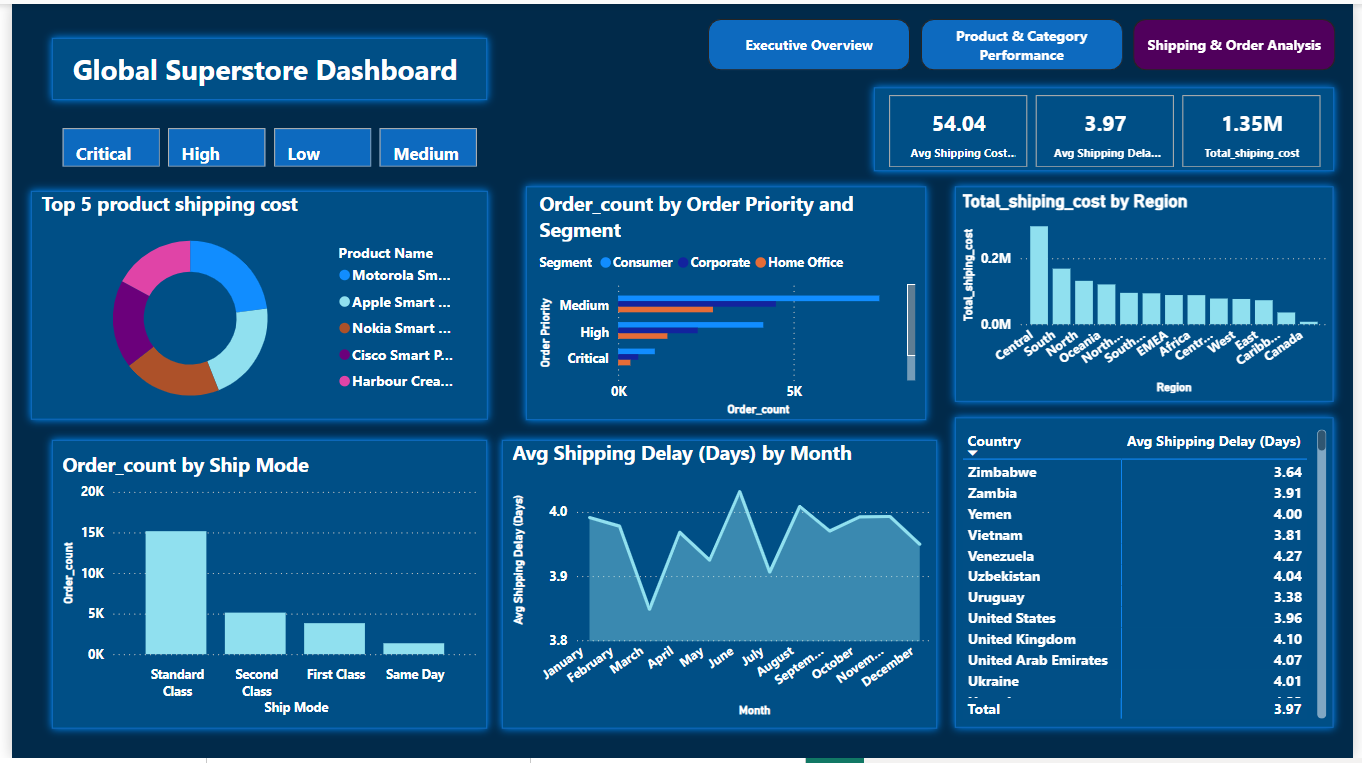

The page's visual inventory and layout, read from the dashboard file:
{"tool":"powerbi","page":{"name":"Shipping & Order Analysis","canvas":[1280,720],"ordinal":2},"visuals":[{"type":"shape","box":[0,160.7,472.4,254.5],"z":0},{"type":"shape","box":[804.8,62,475.6,116.1],"z":1000},{"type":"shape","box":[882.8,155.9,397.7,241.8],"z":2000},{"type":"shape","box":[472.4,155.9,418.3,259.3],"z":3000},{"type":"shape","box":[450.1,397.7,451.7,311.8],"z":4000},{"type":"shape","box":[20.7,397.7,451.7,311.8],"z":5000},{"type":"shape","box":[20.7,14.3,451.7,95.4],"z":6000},{"type":"textbox","box":[52.5,38.2,386.5,52.5],"z":7000},{"type":"clusteredColumnChart","fields":{"Category":["Global_Superstore2.Ship Mode"],"Y":["Global_Superstore2.Order_count"]},"box":[42.9,426.3,407.2,257.7],"z":8000},{"type":"areaChart","fields":{"Category":["Global_Superstore2.Order Date.Variation.Date Hierarchy.Year","Global_Superstore2.Order Date.Variation.Date Hierarchy.Quarter","Global_Superstore2.Order Date.Variation.Date Hierarchy.Month","Global_Superstore2.Order Date.Variation.Date Hierarchy.Day"],"Y":["Global_Superstore2.Avg Shipping Delay (Days)"]},"box":[472.4,415.1,410.4,268.8],"z":9000},{"type":"clusteredBarChart","fields":{"Category":["Global_Superstore2.Order Priority"],"Series":["Global_Superstore2.Segment"],"Y":["Global_Superstore2.Order_count"]},"box":[497.9,178.1,369,219.5],"z":10000},{"type":"shape","box":[882.8,377,397.7,332.4],"z":11000},{"type":"pivotTable","fields":{"Rows":["Global_Superstore2.Country"],"Values":["Global_Superstore2.Avg Shipping Delay (Days)"]},"box":[901.9,400.8,357.9,286.3],"z":12000},{"type":"clusteredColumnChart","fields":{"Category":["Global_Superstore2.Region"],"Y":["Global_Superstore2.Total_shiping_cost"]},"box":[901.9,178.1,357.9,198.8],"z":13000},{"type":"cardVisual","fields":{"Data":["Global_Superstore2.Avg Shipping Cost per Order","Global_Superstore2.Avg Shipping Delay (Days)","Global_Superstore2.Total_shiping_cost"]},"box":[831.9,81.1,423.1,79.5],"z":14000},{"type":"donutChart","title":"Top 5 product shipping cost","fields":{"Category":["Global_Superstore2.Product Name"],"Y":["Global_Superstore2.Total_shiping_cost"]},"box":[22.3,178.1,416.7,219.5],"z":15000},{"type":"advancedSlicerVisual","fields":{"Values":["Global_Superstore2.Order Priority"]},"box":[42.9,112.9,407.2,47.7],"z":16000},{"type":"pageNavigator","box":[665.2,13.9,599.6,49.6],"z":17000}]}

Visuals, with their boxes in screenshot pixels (x1, y1, x2, y2), scaled from the page's 1280x720 canvas onto the 1362x763 screenshot:
shape: 0 170 503 440
shape: 856 66 1361 189
shape: 939 165 1361 421
shape: 503 165 948 440
shape: 479 421 960 752
shape: 22 421 503 752
shape: 22 15 503 116
textbox: 56 40 467 96
clusteredColumnChart - Global_Superstore2.Ship Mode x Global_Superstore2.Order_count: 46 452 479 725
areaChart - Global_Superstore2.Order Date.Variation.Date Hierarchy.Year x Global_Superstore2.Order Date.Variation.Date Hierarchy.Quarter: 503 440 939 725
clusteredBarChart - Global_Superstore2.Order Priority x Global_Superstore2.Segment: 530 189 922 421
shape: 939 400 1361 752
pivotTable - Global_Superstore2.Country x Global_Superstore2.Avg Shipping Delay (Days): 960 425 1341 728
clusteredColumnChart - Global_Superstore2.Region x Global_Superstore2.Total_shiping_cost: 960 189 1341 399
cardVisual - Global_Superstore2.Avg Shipping Cost per Order x Global_Superstore2.Avg Shipping Delay (Days): 885 86 1335 170
"Top 5 product shipping cost" donutChart: 24 189 467 421
advancedSlicerVisual - Global_Superstore2.Order Priority: 46 120 479 170
pageNavigator: 708 15 1346 67
